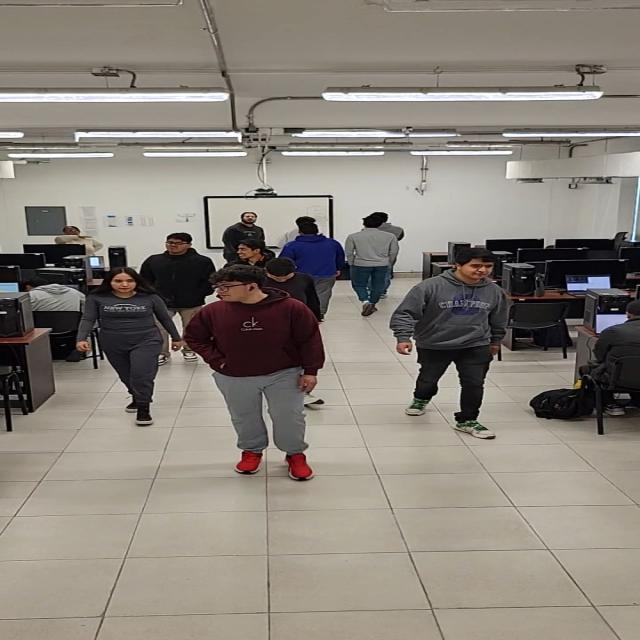Persona: (188, 263, 326, 489), (74, 263, 170, 427), (345, 210, 401, 322), (144, 233, 202, 333), (285, 216, 344, 307), (226, 209, 269, 243)
